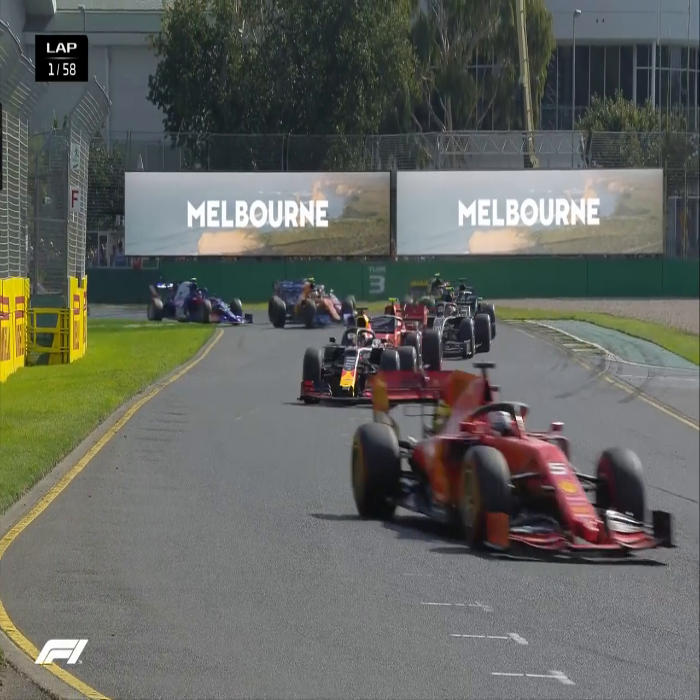f1_car: (350, 374, 683, 583), (295, 319, 425, 406), (141, 271, 250, 333), (260, 271, 363, 332)
